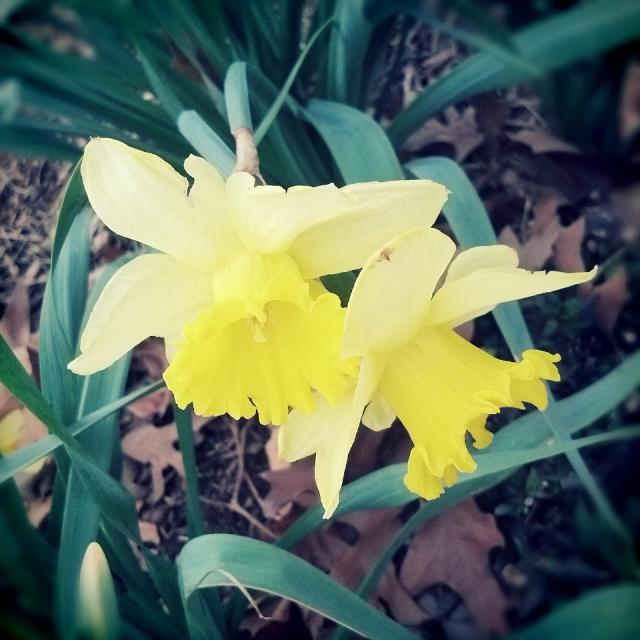Flower: (54, 100, 514, 480)
